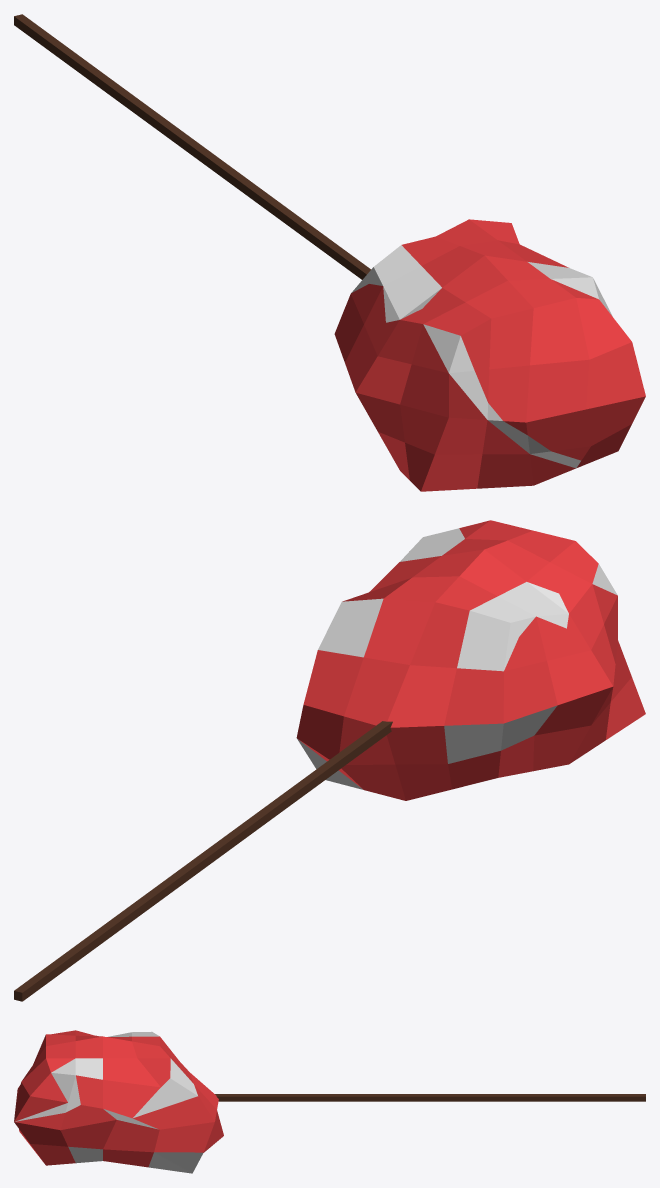
The model's file is MeatTwoWithString.fbx.
3 views of the same model, one above another, from view 1: azimuth 30°, elevation 25°; view 2: azimuth 150°, elevation 25°; view 3: azimuth 270°, elevation 25° (orthographic). The views are drawn at different scales.
Visible parts, largest first — view 1: Cube, Cube.001; view 2: Cube, Cube.001; view 3: Cube, Cube.001.
Part boxes in pixels (x1=…): Cube: x1=334, y1=219, x2=645, y2=491; Cube.001: x1=14, y1=14, x2=370, y2=279; Cube: x1=296, y1=520, x2=645, y2=800; Cube.001: x1=14, y1=721, x2=392, y2=1001; Cube: x1=14, y1=1030, x2=223, y2=1173; Cube.001: x1=215, y1=1094, x2=645, y2=1101.
Size of the model in its own units: 286 by 233 by 1109.
